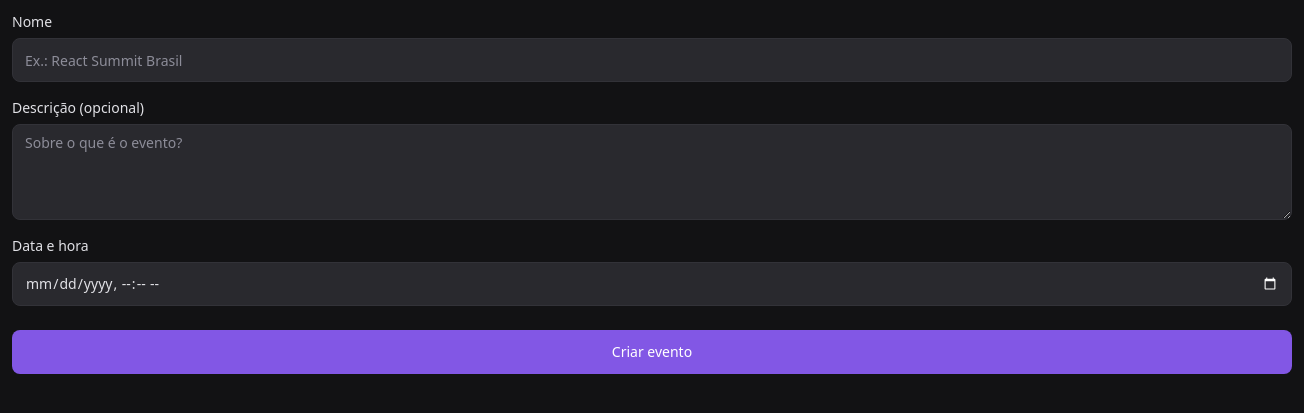
Test: Cadastro de evento › bloqueia o envio quando a data está no passado
Type "Evento antigo" into the field labelled "Nome" at (652,60), box [12,38,1292,82]
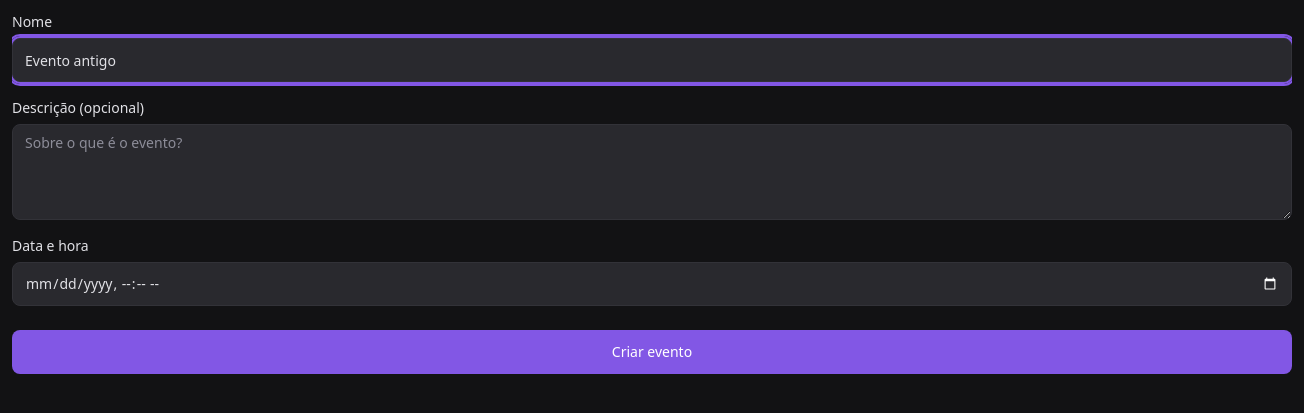
Type "2000-01-01T10:00" into the field labelled "Data e hora" at (652,284), box [12,262,1292,306]
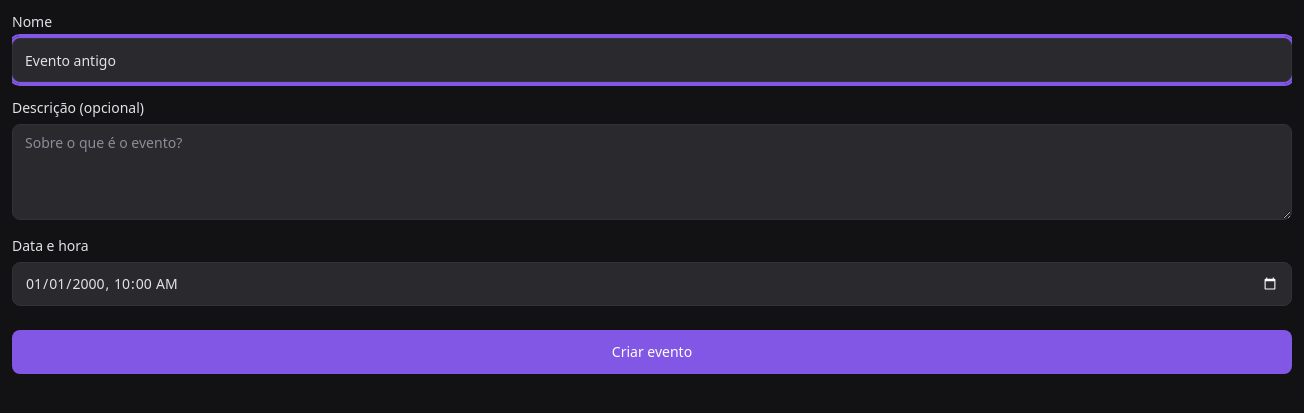
Click the button "Criar evento" at (652,352), box [12,330,1292,374]
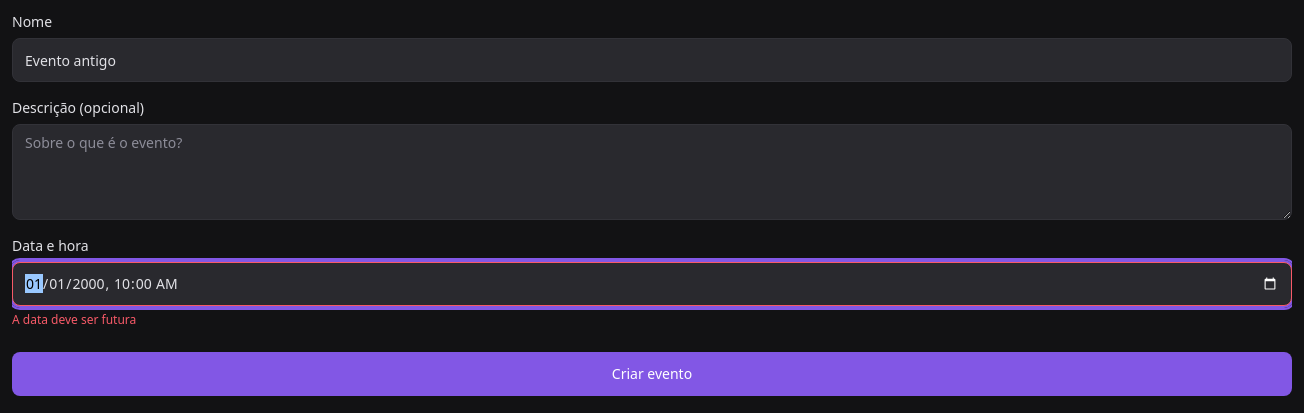
Now the text "A data deve ser futura" is shown, box [12,311,136,328]
